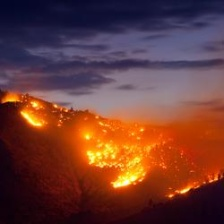fire: (8, 90, 156, 193), (170, 173, 221, 204)
